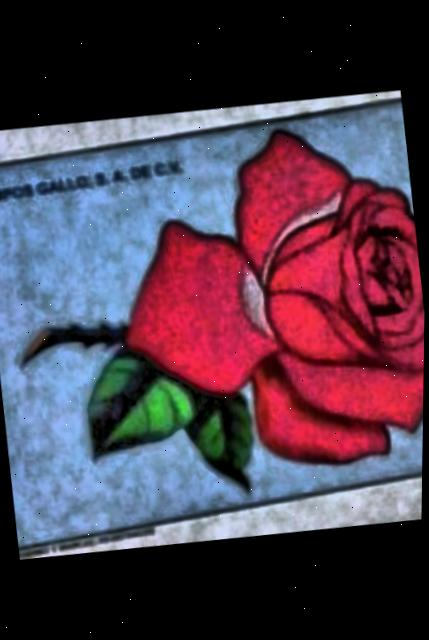La Rosa: (0, 107, 425, 550)
